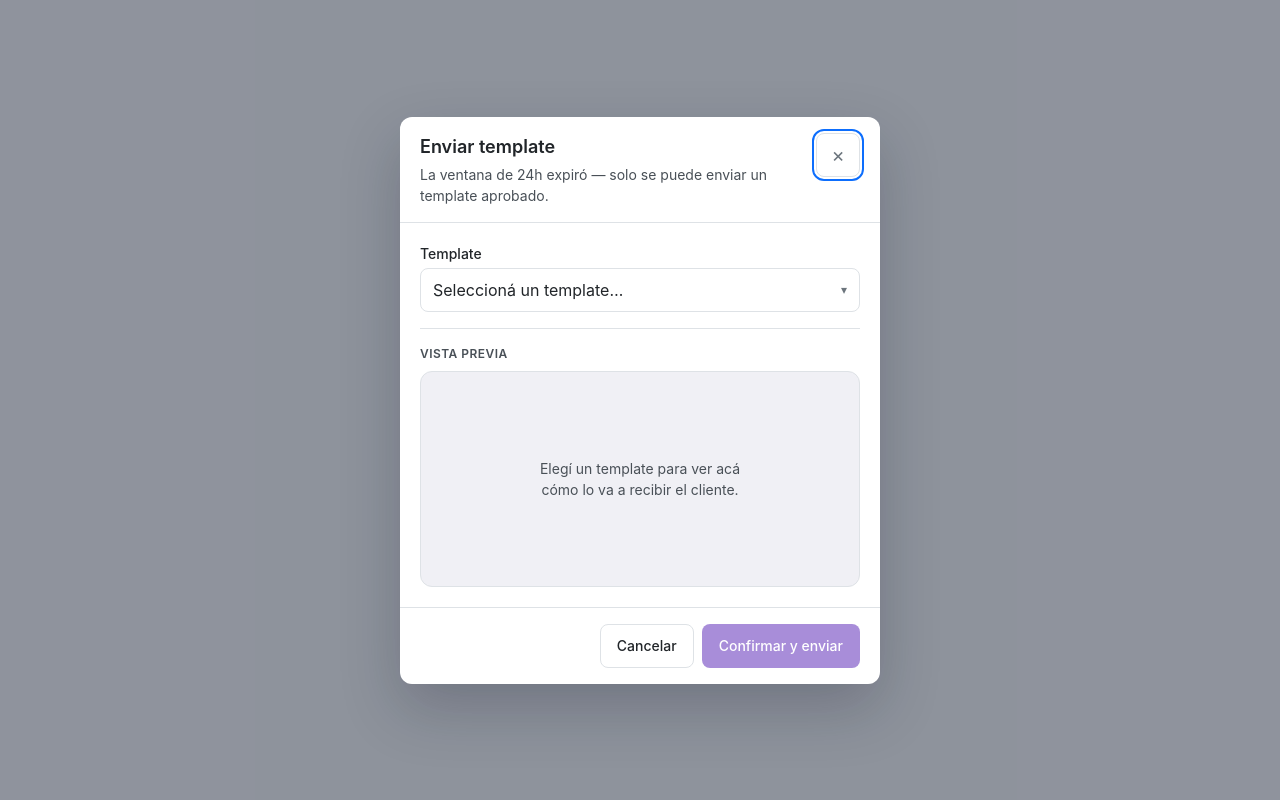
Scenario: VAR-1: variables con fuentes + preview vivo › renderiza un Select de fuente por variable con label {{N}} visible; el input de texto SOLO aparece al elegir "Valor fijo"
The width and height of the screenshot is (1280, 800).
Click the dropdown labelled "Seleccioná un template… ▾": (528, 290) left=420, top=268, right=860, bottom=312
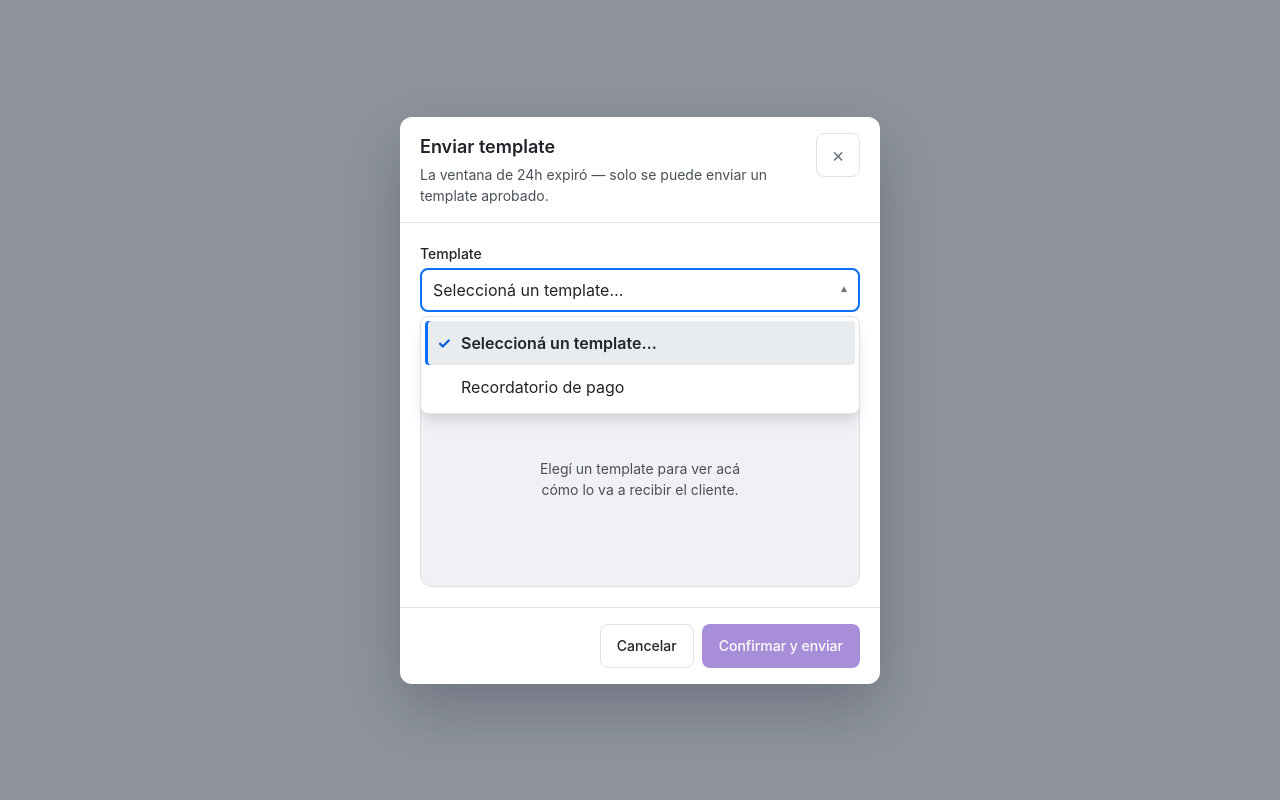
Click the option "Recordatorio de pago": (543, 386) left=461, top=376, right=624, bottom=396
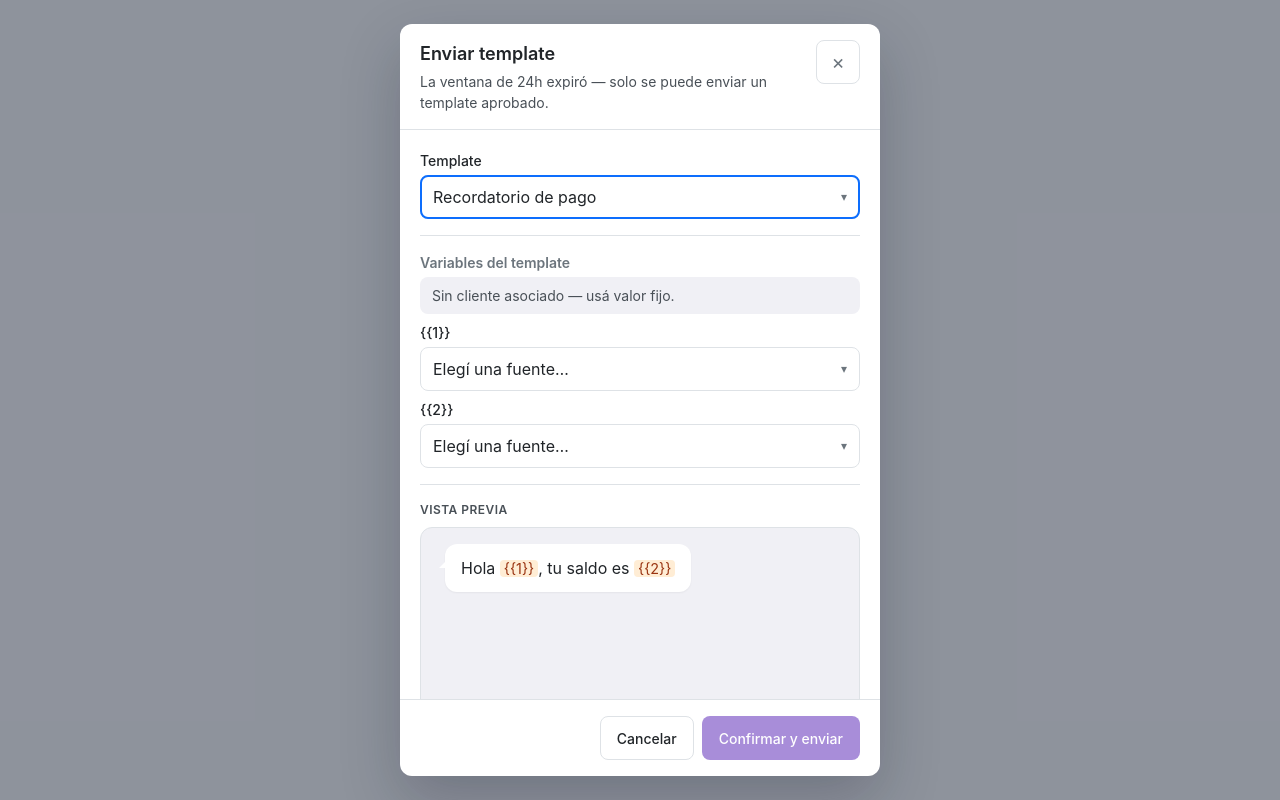
Expected: the field labelled "Valor fijo para {{1}}" is not shown
Expected: the dropdown named "{{1}}" is shown
Expected: the dropdown named "{{2}}" is shown, left=420, top=424, right=860, bottom=468
Click the dropdown named "{{1}}": (501, 369) left=420, top=347, right=860, bottom=391
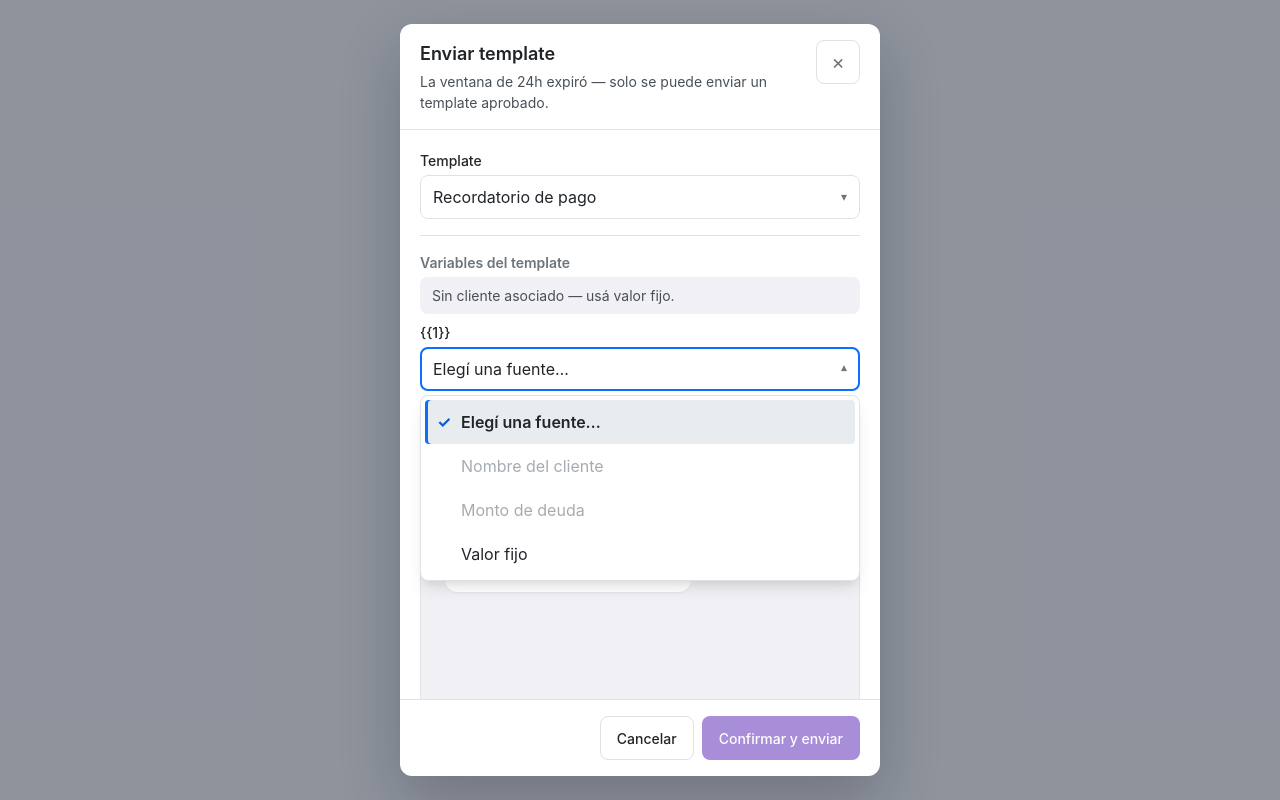
Click the option "Valor fijo": (494, 554) left=461, top=544, right=528, bottom=564
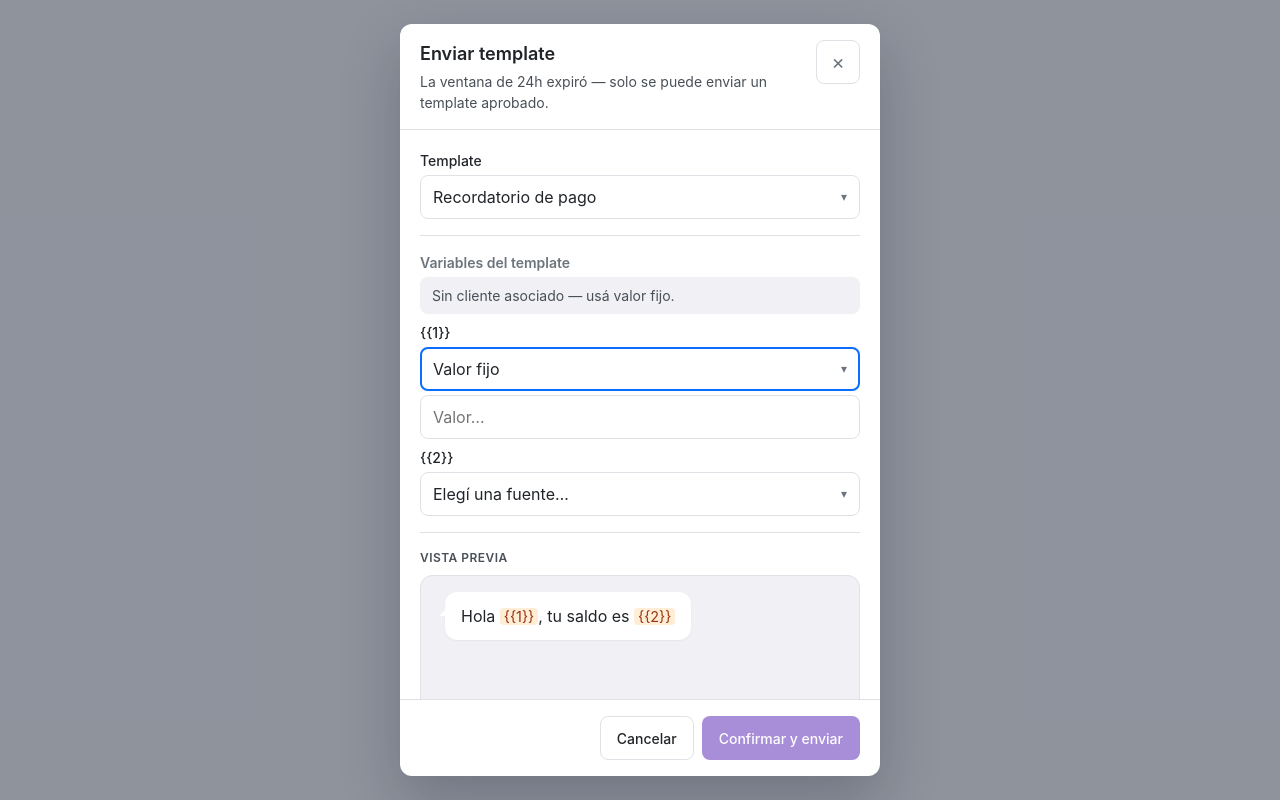
Expected: the field named "Valor fijo para {{1}}" is shown, left=420, top=395, right=860, bottom=439
